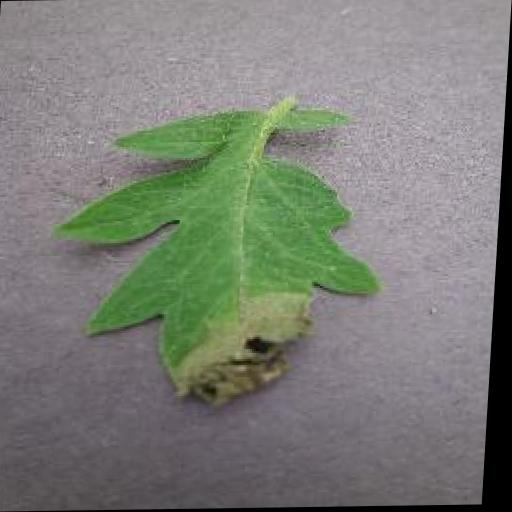Late Blight: (50, 108, 390, 410)
